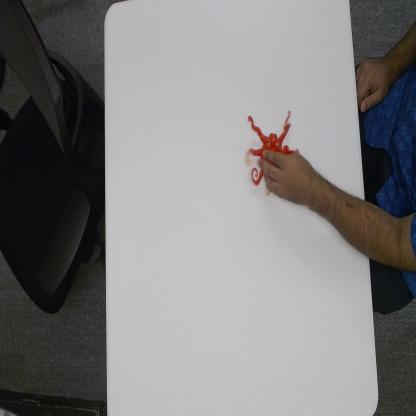Arm: (315, 170, 378, 257)
Hand: (258, 146, 316, 210)
Octopus: (244, 107, 301, 198)
